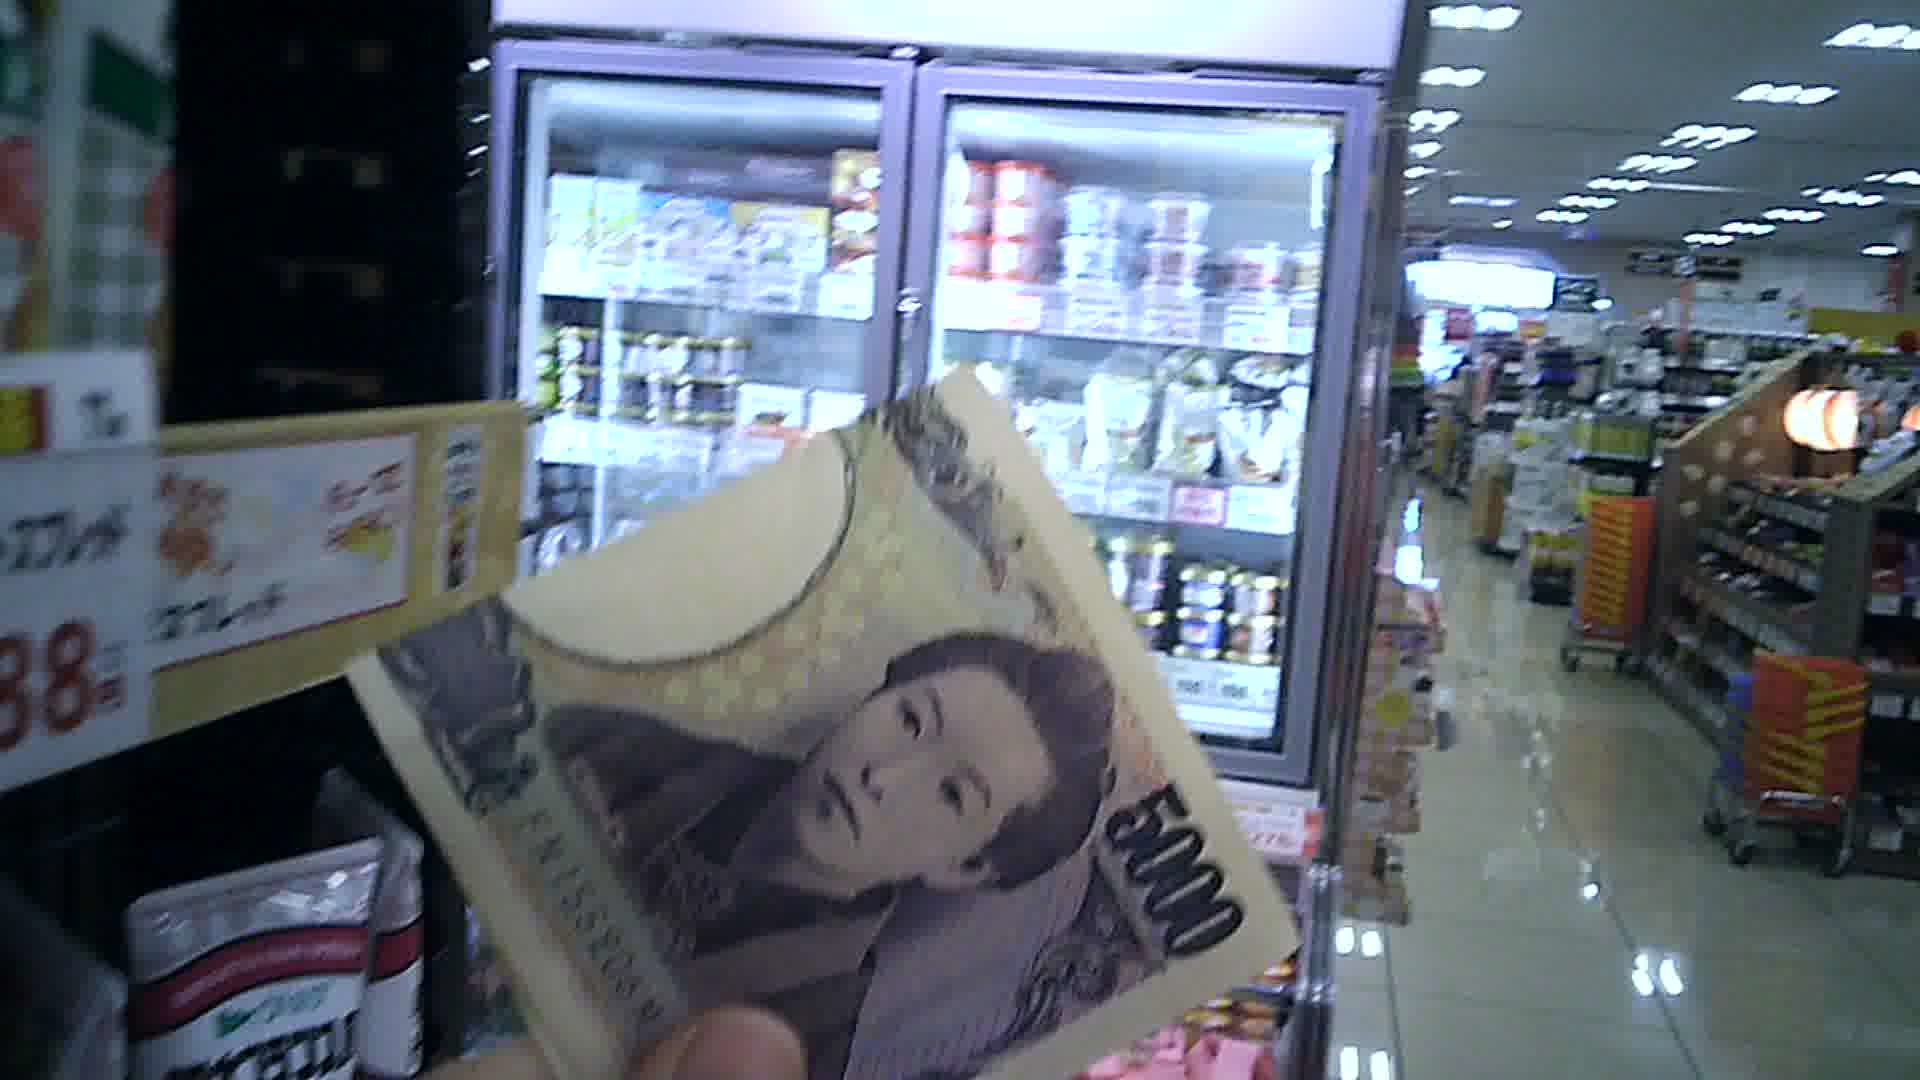5,000 Yen: (338, 375, 1262, 1058)
